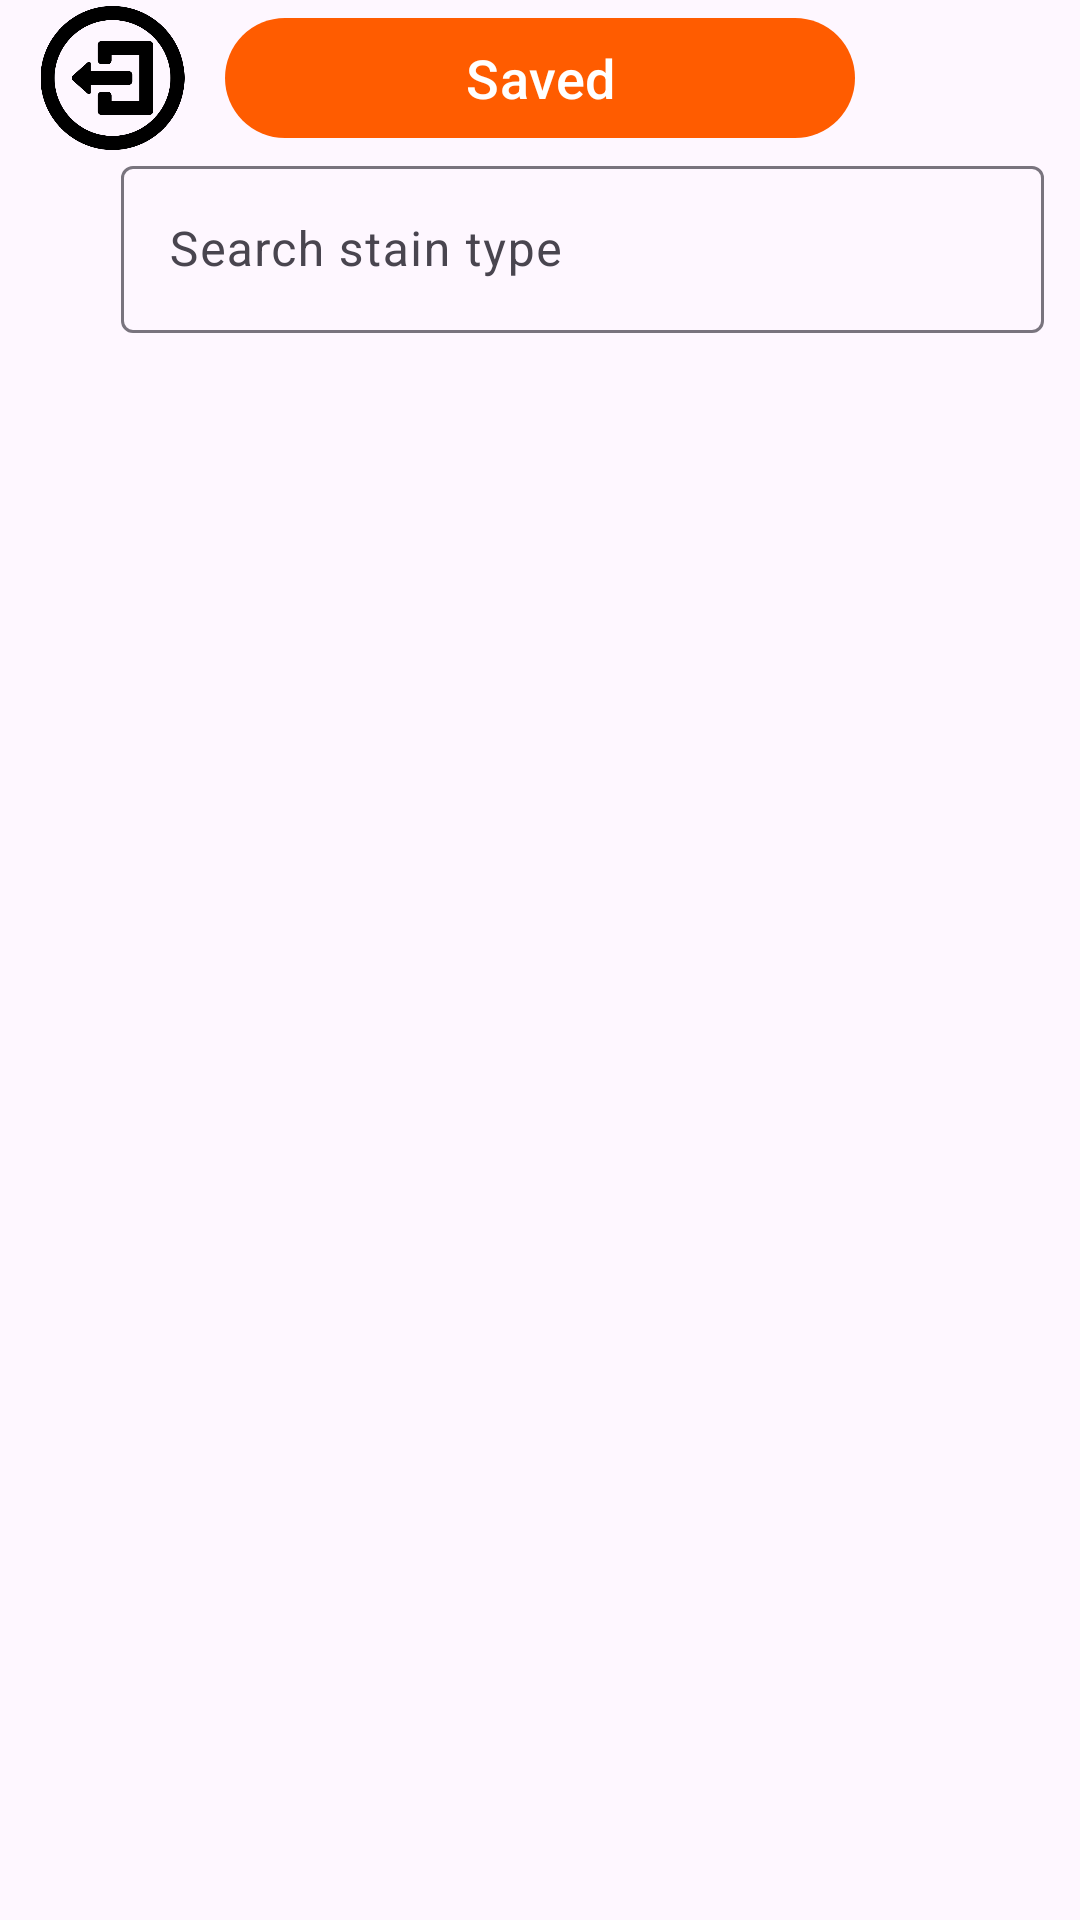

Icons on this 1080w x 1920h Android screen, each with the point to tap as (x,y):
log out: (113,78)
